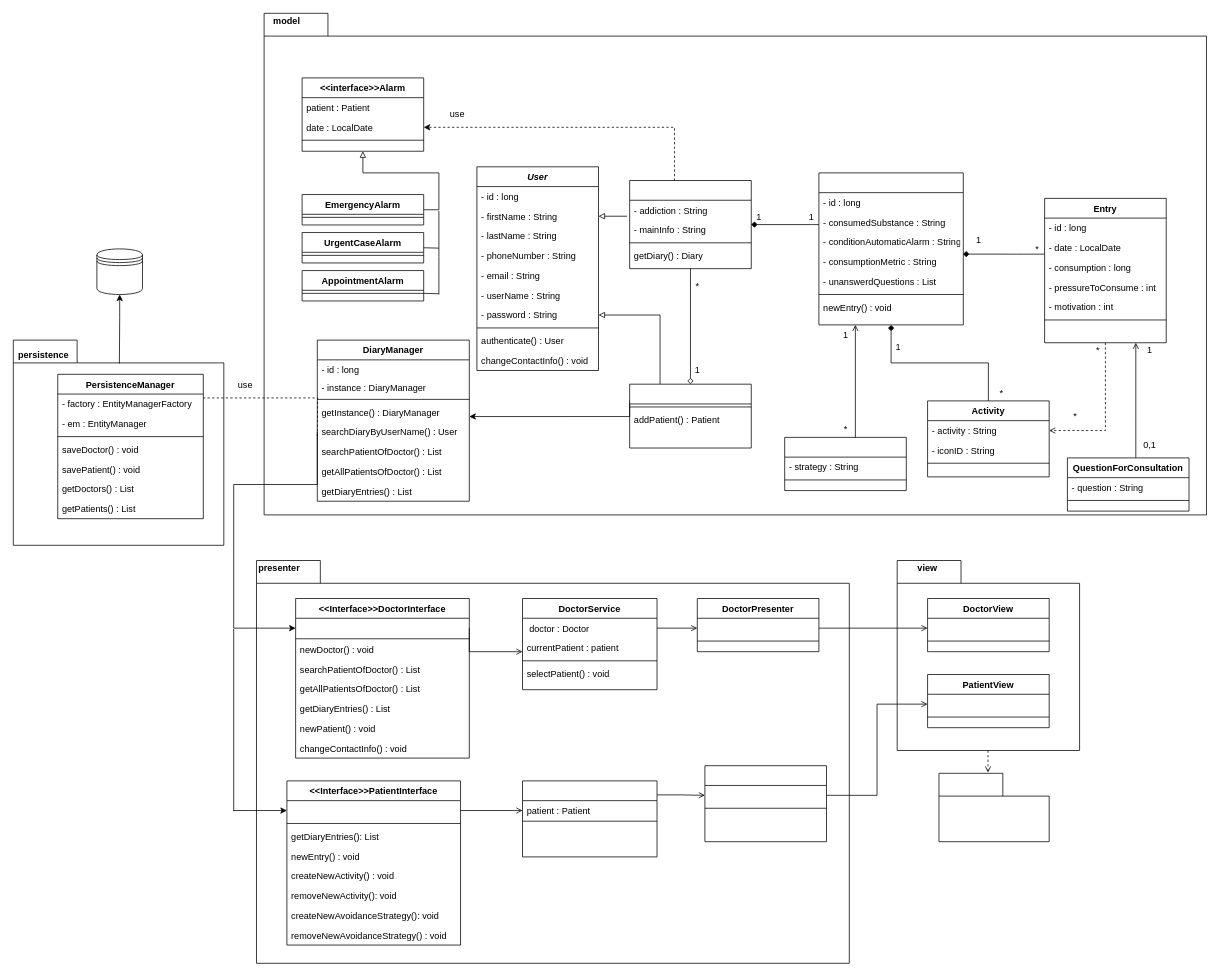
The diagram is 1220 pixels wide and 977 high, and some of its shapes have lost their labels. The shapes that lost their labels are listed below. From the top down, each one's box as (x1, y1, x2, y2) in pixels, then its label:
(629, 180, 751, 269): Patient
(818, 172, 963, 325): Diary
(96, 248, 142, 294): SQLite
(629, 383, 751, 448): Doctor
(784, 437, 906, 491): AvoidanceStrategy
(522, 780, 657, 857): PatientService
(704, 765, 826, 842): PatientPresenter
(938, 773, 1049, 842): vaadin
